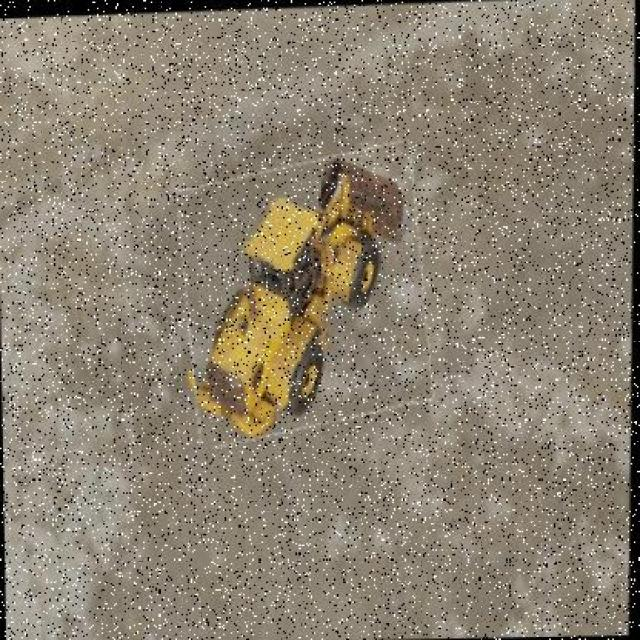buldozerpayloadergrader: (192, 152, 413, 438)
